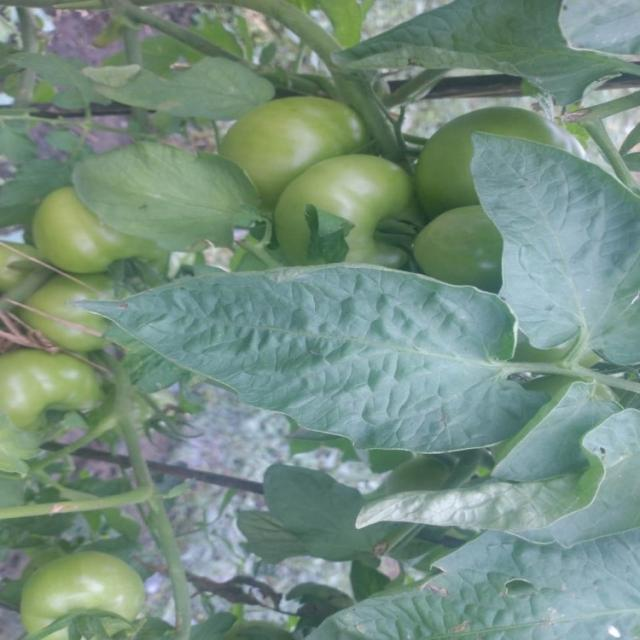tomato: (281, 144, 424, 274), (216, 80, 373, 197), (417, 94, 550, 206), (41, 179, 136, 294), (23, 547, 138, 640), (1, 345, 110, 437), (411, 196, 502, 283), (35, 270, 104, 339), (1, 227, 53, 302)
